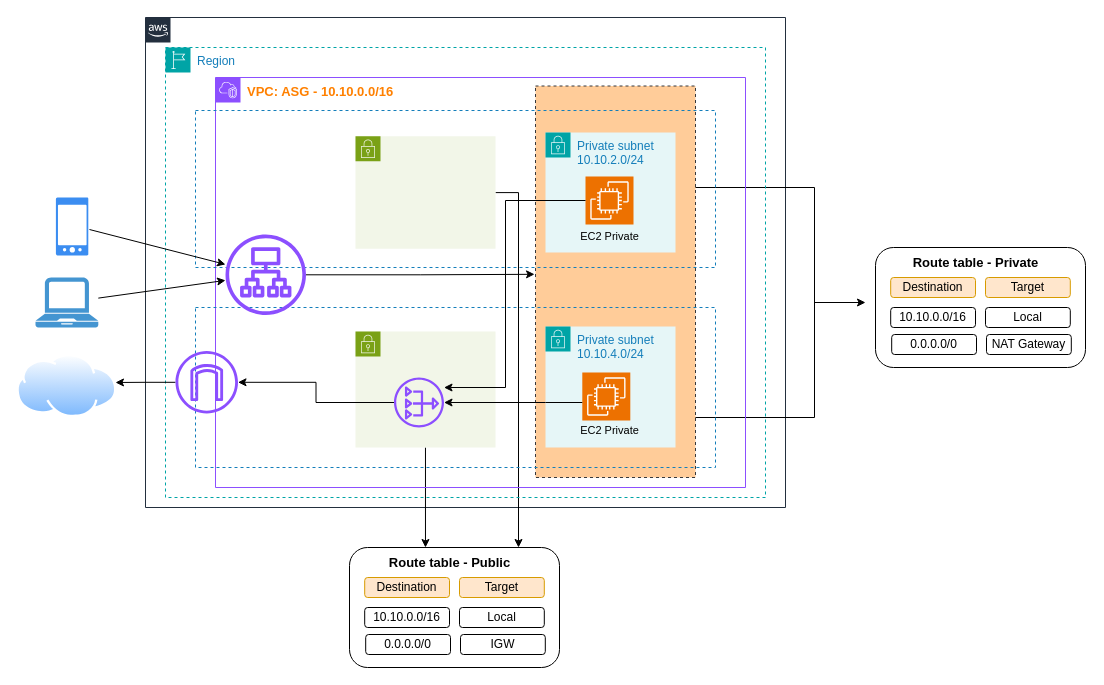
The diagram is 1104 pixels wide and 685 high, and some of its shapes have lost their labels. The shapes that lost their labels are listed below. From the top down, each one's box as (x1, y1, x2, y2) in pixels, then its label:
(354, 135, 496, 249): Public subnet 10.10.1.0/24
(194, 110, 716, 268): Availability Zone 1
(144, 16, 786, 508): AWS Cloud
(534, 85, 696, 478): Private Target Group
(354, 330, 496, 448): Public subnet 10.10.3.0/24
(194, 306, 716, 468): Availability Zone 2
